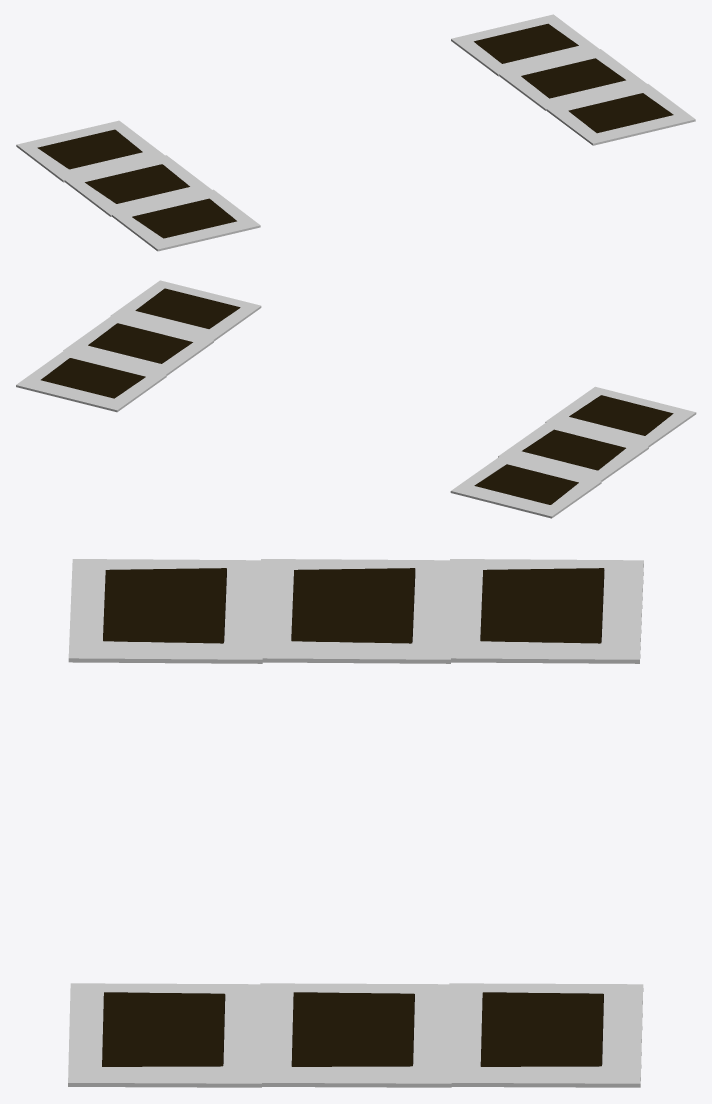
File: FreeplayVetosMenuPage.fbx
The picture shows the model from 3 angles, top to bottom: view 1: azimuth 30°, elevation 25°; view 2: azimuth 150°, elevation 25°; view 3: azimuth 270°, elevation 25°; orthographic projection. The views are drawn at different scales.
Parts seen in each view (by area): view 1: highlight_mesh (×6), PaddedQuad_BackingLabel (×6); view 2: highlight_mesh (×6), PaddedQuad_BackingLabel (×6); view 3: highlight_mesh (×6), PaddedQuad_BackingLabel (×6).
Part boxes in pixels (x1,y1,x2,y2): highlight_mesh (×6): [16, 14, 695, 251]; PaddedQuad_BackingLabel (×6): [37, 23, 673, 238]; highlight_mesh (×6): [16, 280, 696, 518]; PaddedQuad_BackingLabel (×6): [41, 288, 673, 504]; highlight_mesh (×6): [68, 559, 643, 1087]; PaddedQuad_BackingLabel (×6): [102, 568, 604, 1066].
Bounding box in the file's own units: 0.1954 × 0.00116 × 0.0877.
Materials: 2 (2 with a texture image).
